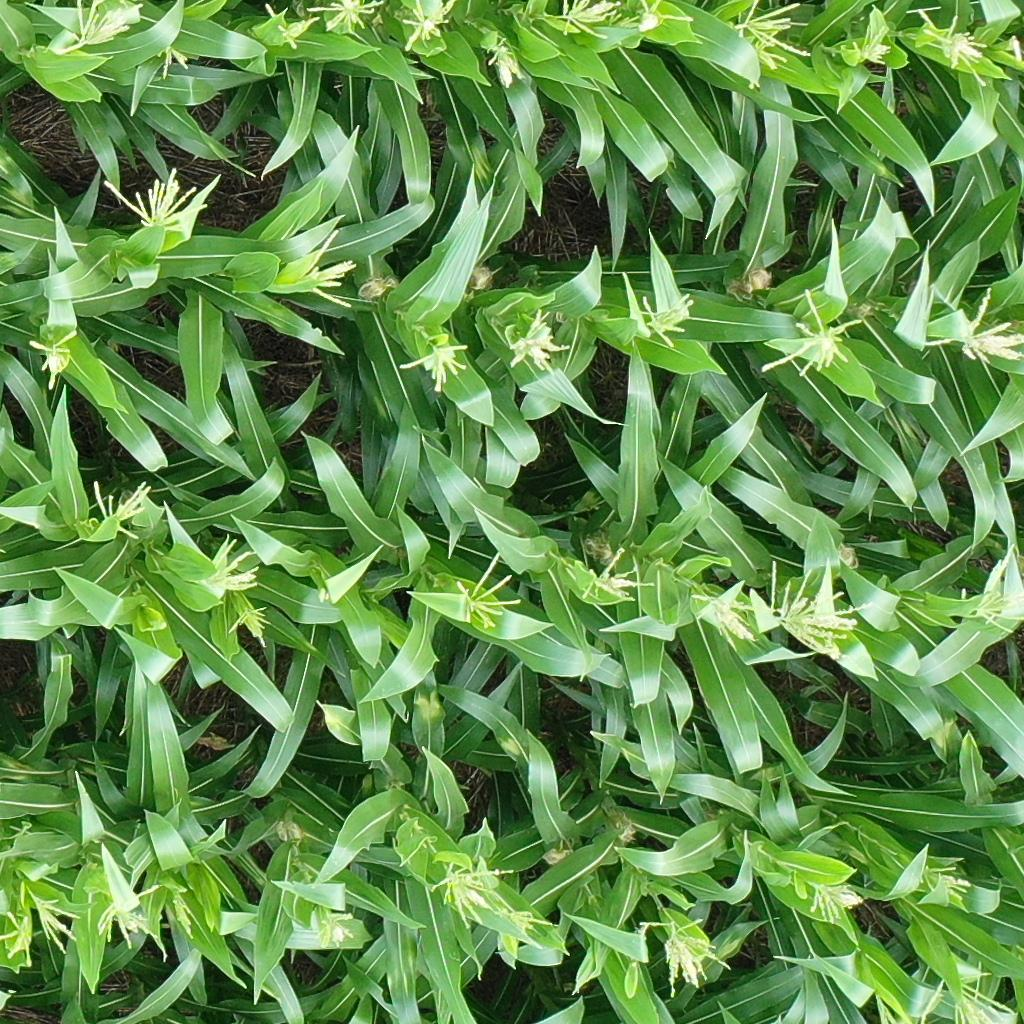Tassel: (770, 562, 875, 665), (923, 278, 1024, 369), (761, 288, 860, 378), (638, 907, 730, 996), (102, 169, 209, 233), (426, 853, 516, 928), (918, 4, 996, 85), (730, 1, 815, 71), (295, 225, 361, 311), (455, 546, 523, 629), (679, 579, 764, 644), (920, 966, 1015, 1024), (88, 882, 161, 955), (501, 306, 573, 380), (621, 282, 700, 346), (583, 543, 655, 608), (60, 1, 143, 53), (979, 539, 1024, 634), (91, 477, 154, 540), (400, 335, 467, 392), (203, 534, 260, 600), (28, 324, 84, 388), (30, 890, 81, 955), (401, 1, 461, 56), (800, 876, 867, 922), (544, 1, 619, 42), (263, 2, 320, 53), (310, 1, 387, 38), (504, 904, 559, 948), (225, 603, 273, 651), (629, 1, 695, 35), (1, 910, 39, 966), (852, 21, 894, 70), (315, 904, 360, 945), (167, 883, 199, 939), (486, 36, 523, 81), (923, 865, 975, 897), (160, 42, 193, 82)
